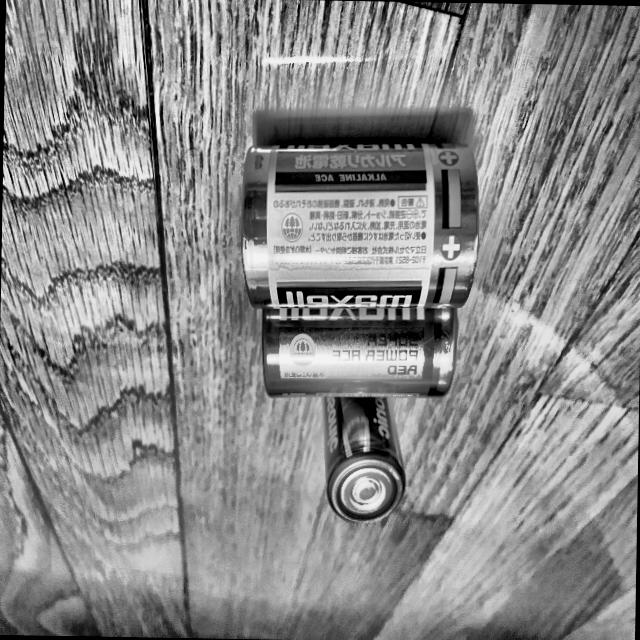drycell: (246, 295, 467, 404), (314, 390, 408, 524)
